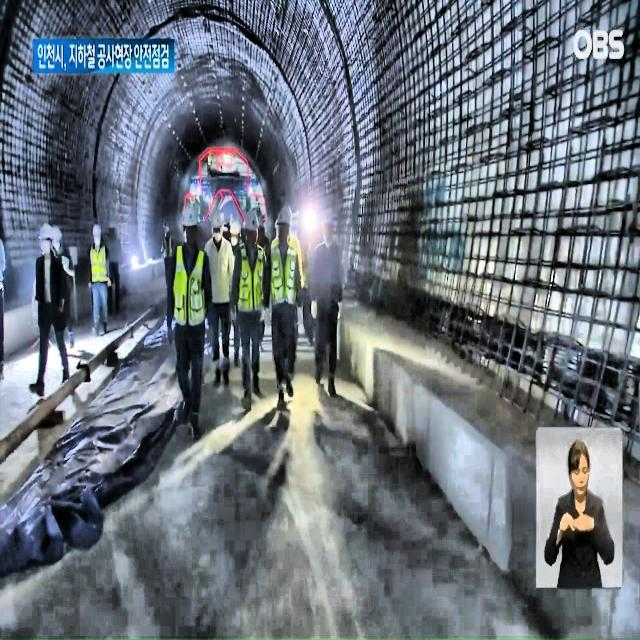safety_helmet: (180, 207, 198, 230), (210, 207, 225, 230), (244, 208, 259, 231), (275, 208, 291, 228), (38, 222, 54, 241), (320, 208, 336, 226), (229, 221, 242, 236), (256, 212, 266, 228), (286, 204, 294, 223), (52, 227, 62, 242), (92, 223, 103, 236), (107, 220, 117, 231), (163, 225, 170, 235)
safety_jacket: (172, 246, 208, 327), (236, 244, 266, 314), (270, 244, 298, 309), (90, 242, 108, 284), (162, 237, 174, 258)
